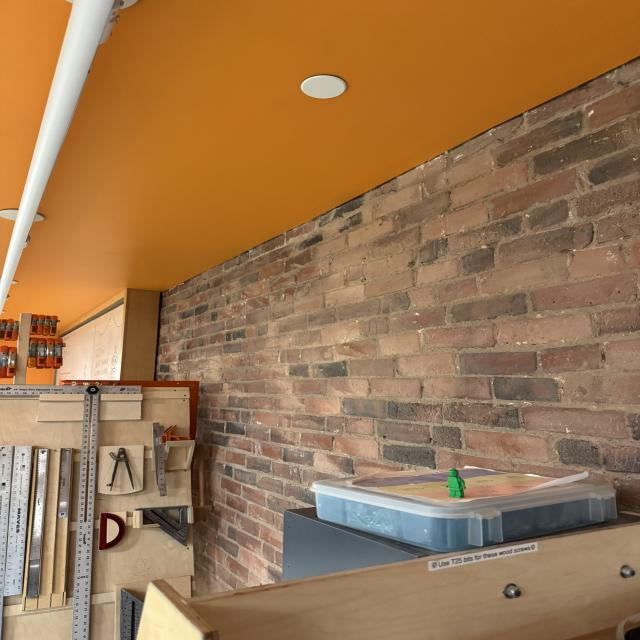Green Mini Figure: (447, 468, 465, 498)
